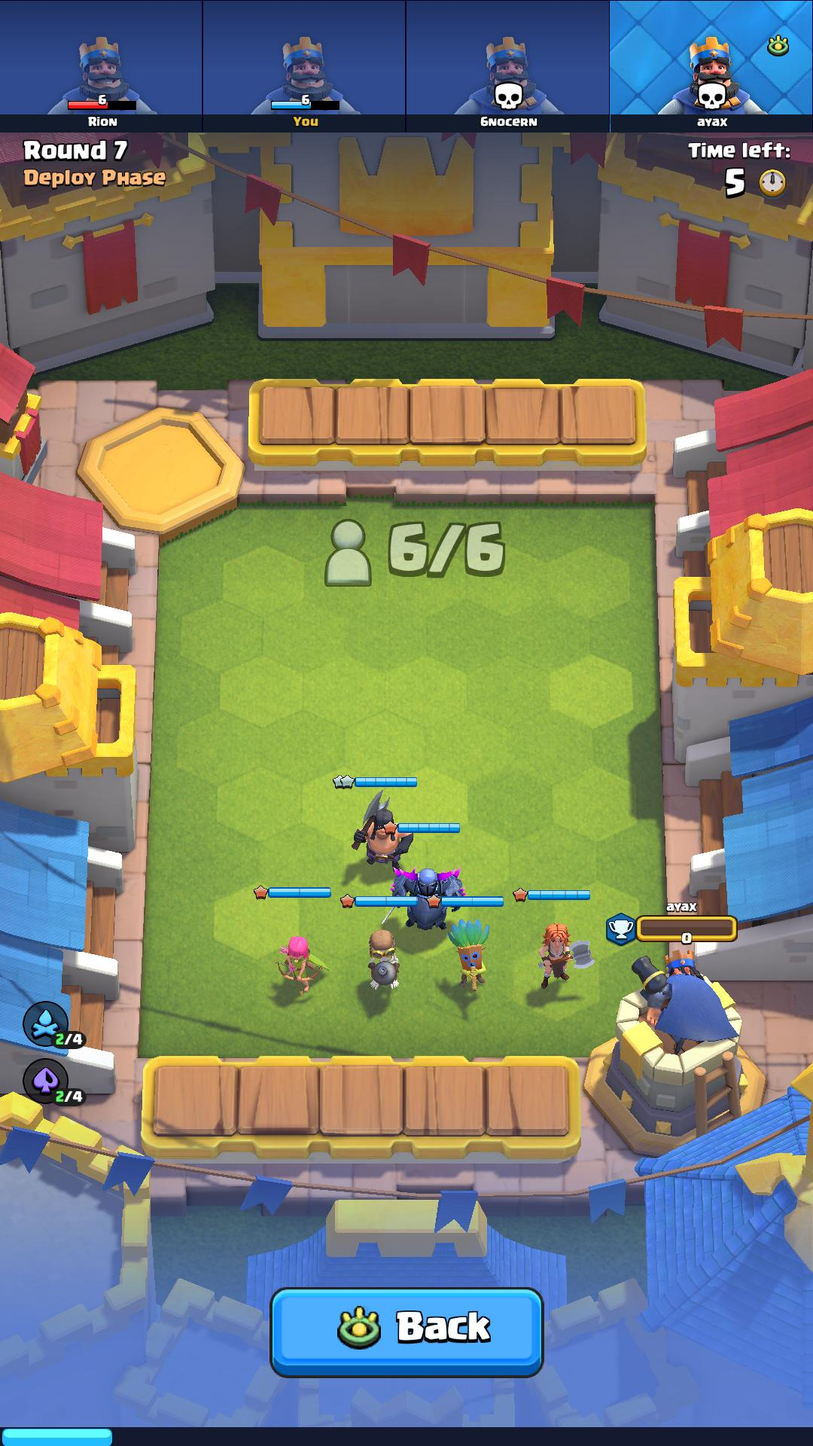archer: (272, 933, 337, 995)
bomber: (362, 926, 405, 995)
dart: (447, 919, 493, 996)
executioner: (347, 790, 414, 870)
pekka: (388, 864, 459, 931)
valkyrie: (531, 921, 595, 991)
